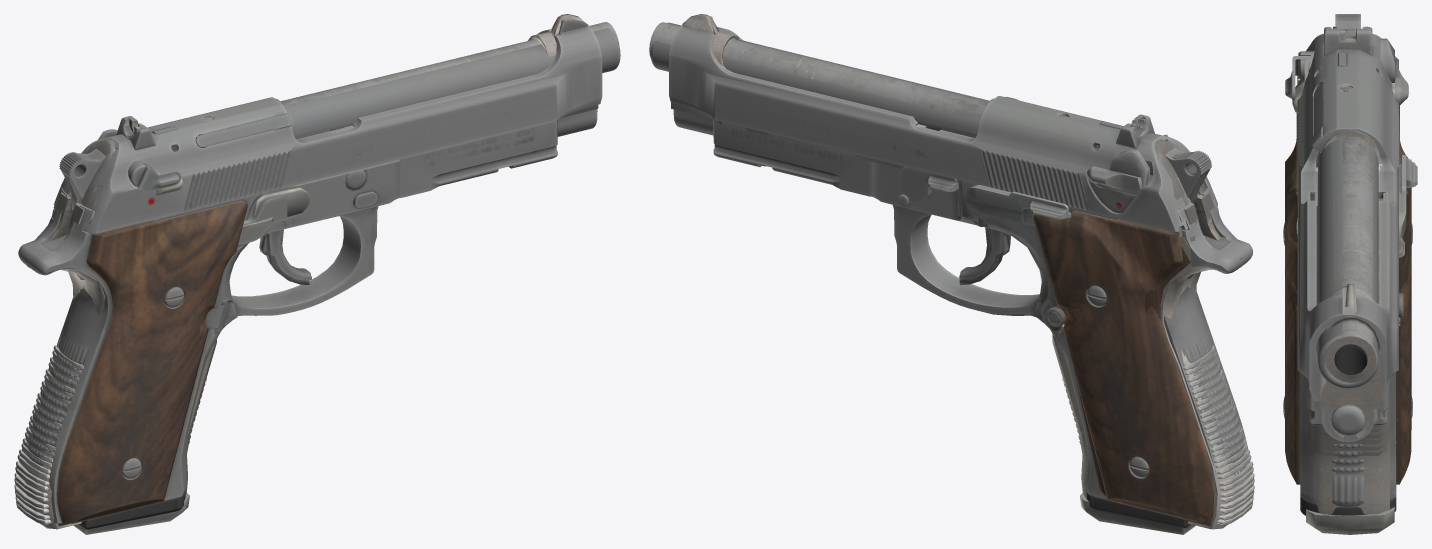
Rendered from weapon_elite.glb.
The picture shows the model from 3 angles, left to right: view 1: azimuth 30°, elevation 25°; view 2: azimuth 150°, elevation 25°; view 3: azimuth 270°, elevation 25°; orthographic projection. The views are drawn at different scales.
Visible parts, largest first — view 1: weapons/models/elite/weapon_pist_elite.vmdl_c.body_hd, weapons/models/elite/weapon_pist_elite.vmdl_c.body_legacy; view 2: weapons/models/elite/weapon_pist_elite.vmdl_c.body_hd, weapons/models/elite/weapon_pist_elite.vmdl_c.body_legacy; view 3: weapons/models/elite/weapon_pist_elite.vmdl_c.body_hd, weapons/models/elite/weapon_pist_elite.vmdl_c.body_legacy.
Boxes of the visible parts, bbox=[...] form: weapons/models/elite/weapon_pist_elite.vmdl_c.body_hd: bbox=[18, 19, 620, 529]; weapons/models/elite/weapon_pist_elite.vmdl_c.body_legacy: bbox=[14, 14, 619, 534]; weapons/models/elite/weapon_pist_elite.vmdl_c.body_hd: bbox=[650, 16, 1252, 528]; weapons/models/elite/weapon_pist_elite.vmdl_c.body_legacy: bbox=[649, 14, 1254, 534]; weapons/models/elite/weapon_pist_elite.vmdl_c.body_hd: bbox=[1283, 14, 1417, 515]; weapons/models/elite/weapon_pist_elite.vmdl_c.body_legacy: bbox=[1292, 26, 1400, 534].
Bounding box in the file's own units: 10.41 × 6.71 × 1.67.
Materials: 2 (2 with a texture image).
